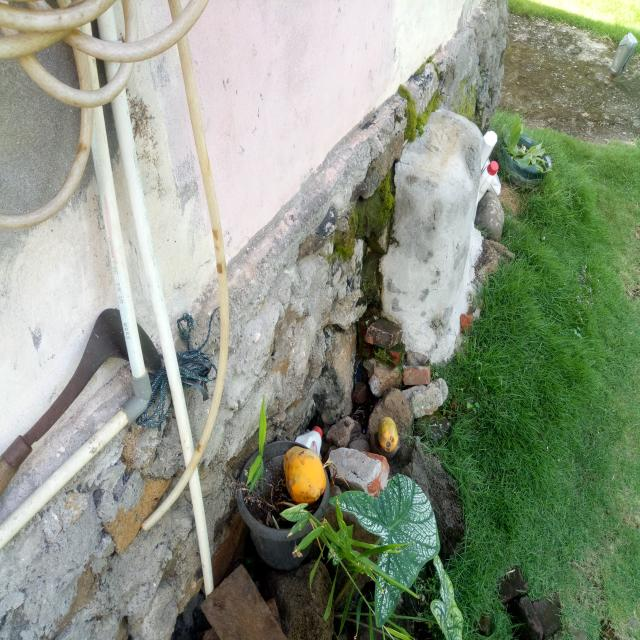Pepaya rippen: (274, 434, 331, 506), (376, 411, 408, 456)
